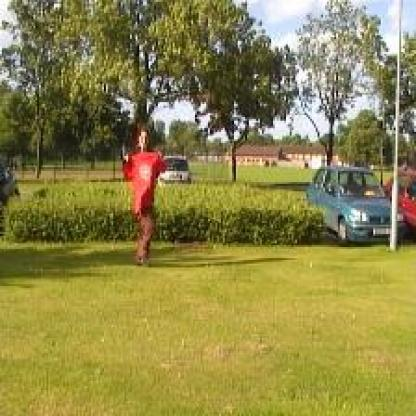other: (124, 146, 167, 211)
